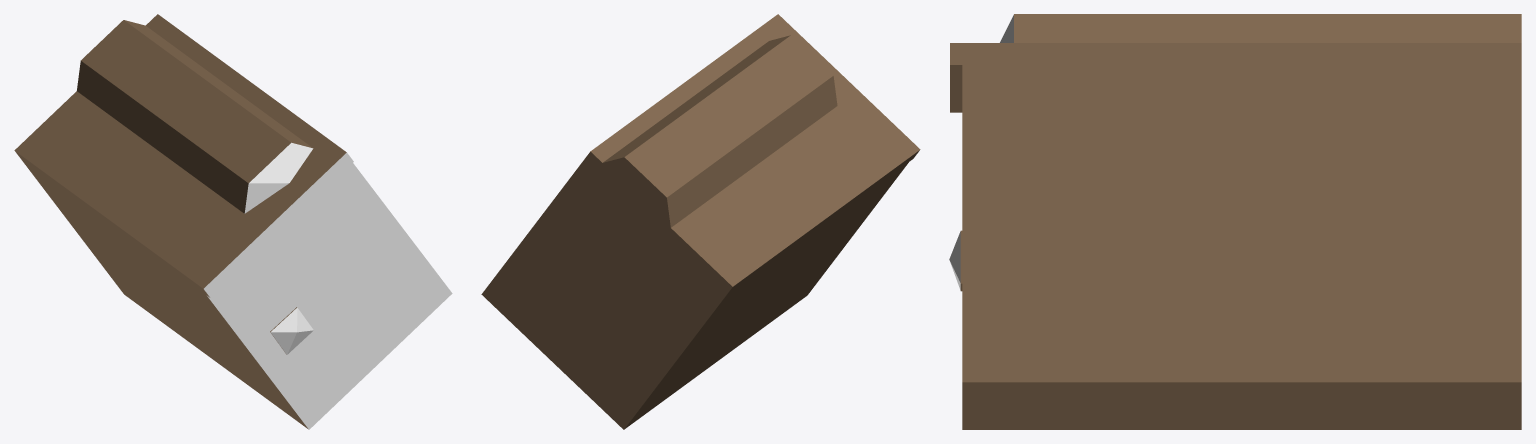
3 renders of one model, left to right at view 1: azimuth 30°, elevation 25°; view 2: azimuth 150°, elevation 25°; view 3: azimuth 270°, elevation 25°, orthographic. The views are drawn at different scales.
Visible parts, largest first — view 1: City_PC-08728; view 2: City_PC-08728; view 3: City_PC-08728.
Boxes of the visible parts, x1,y1,x2,y2 form: City_PC-08728: [14, 14, 452, 429]; City_PC-08728: [481, 14, 920, 429]; City_PC-08728: [949, 14, 1521, 429].
Bounding box in the file's own units: 1126 × 1168 × 1459.
